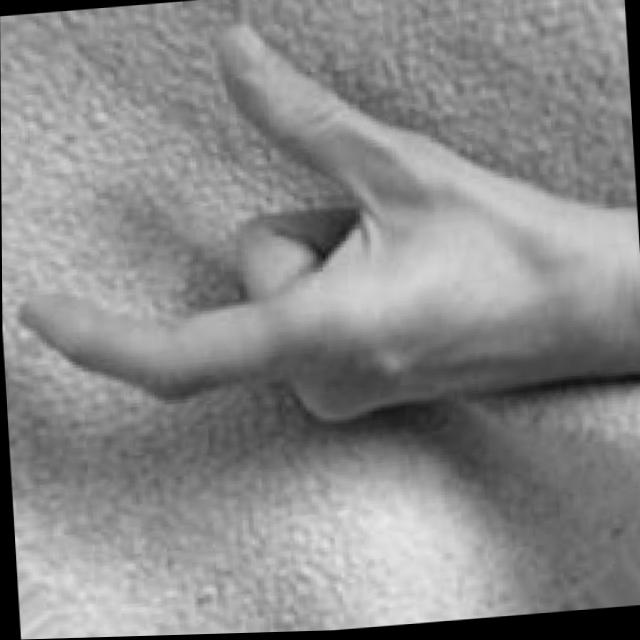U: (0, 0, 573, 452)
